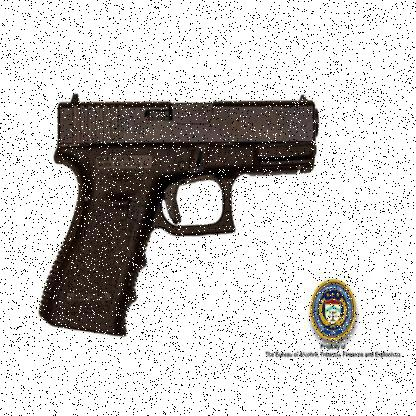pistol: (34, 89, 320, 349)
